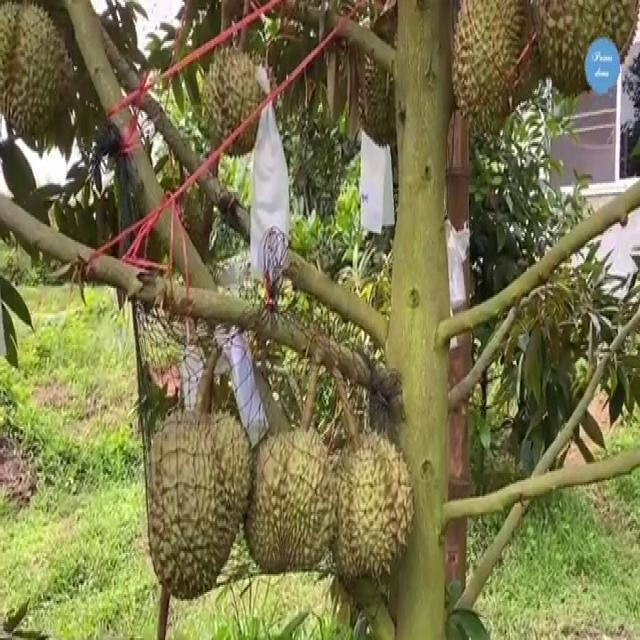durian: (142, 394, 254, 609), (240, 418, 345, 583), (318, 425, 418, 587), (443, 3, 553, 140), (346, 1, 426, 153), (523, 2, 639, 104), (0, 0, 78, 151), (193, 40, 278, 160)
